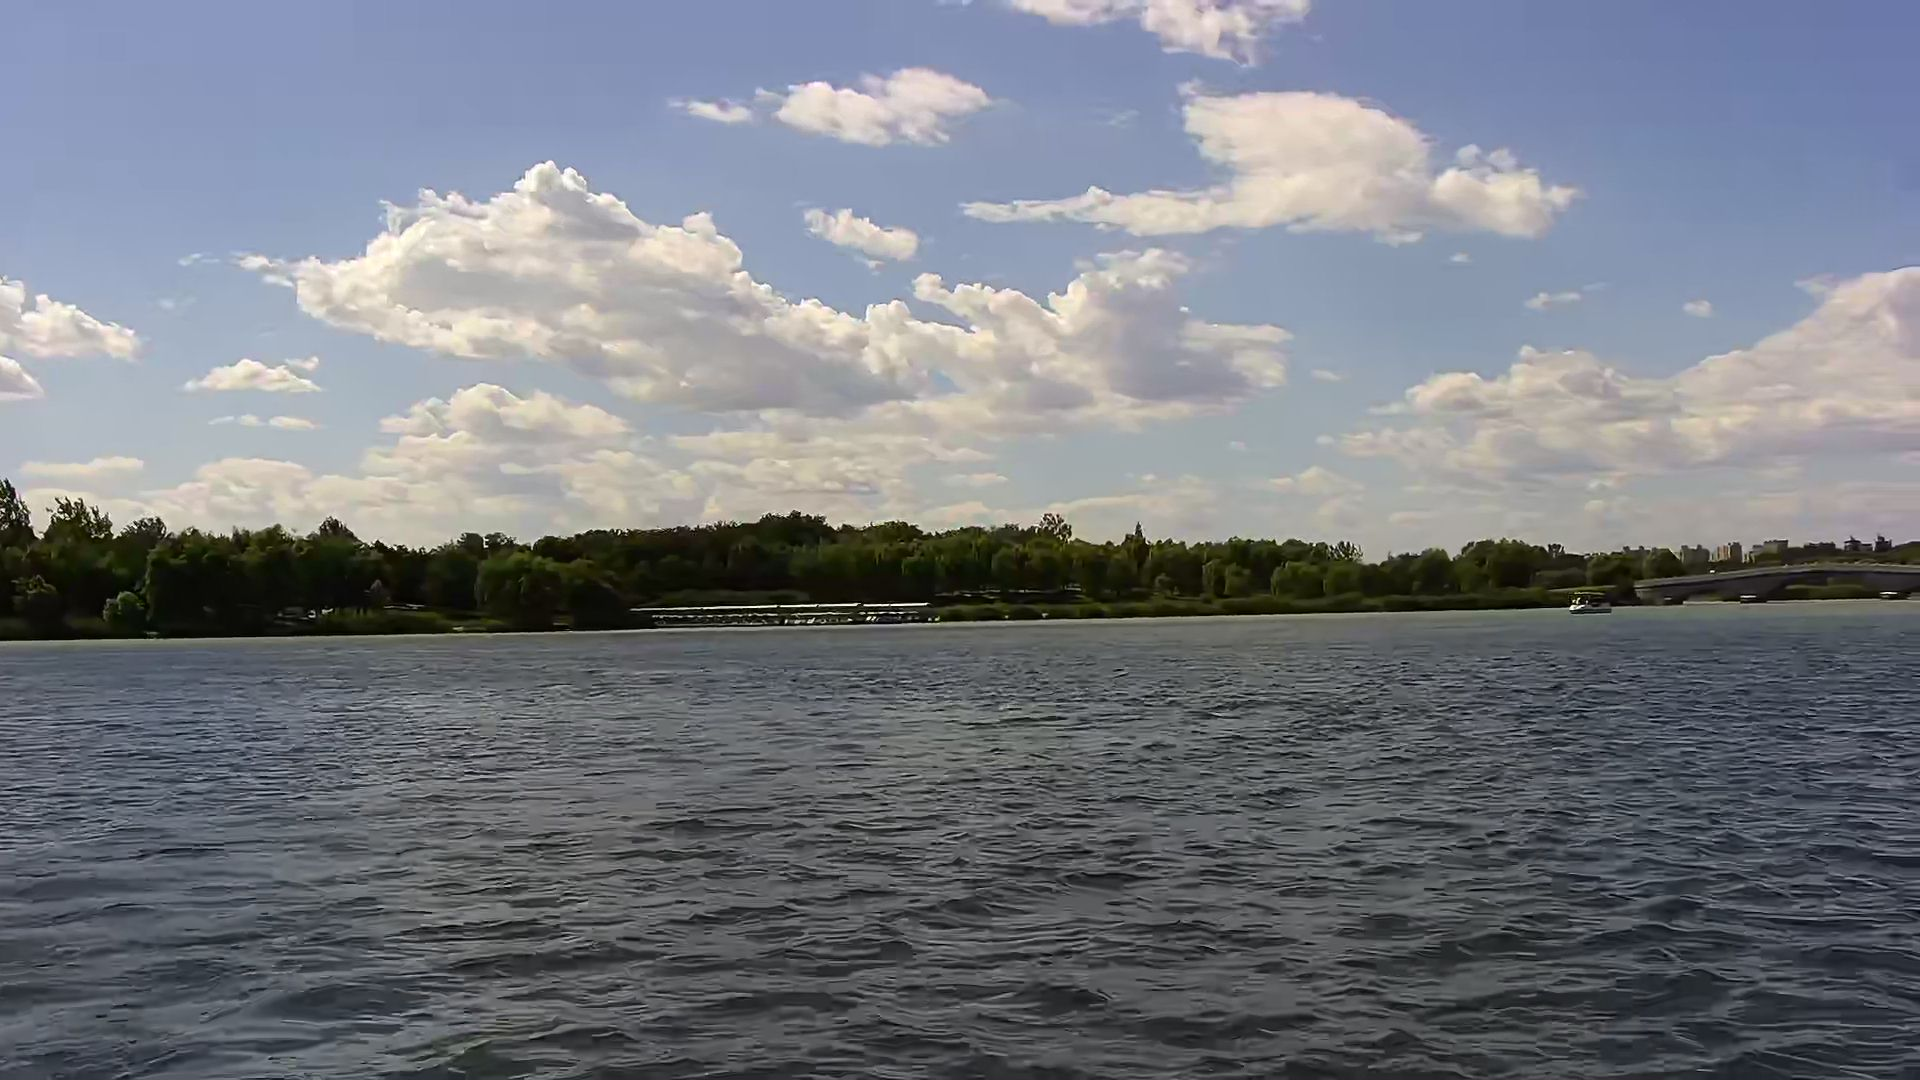boat: (1564, 591, 1615, 620)
bridge: (1626, 560, 1919, 604), (644, 599, 931, 626)
